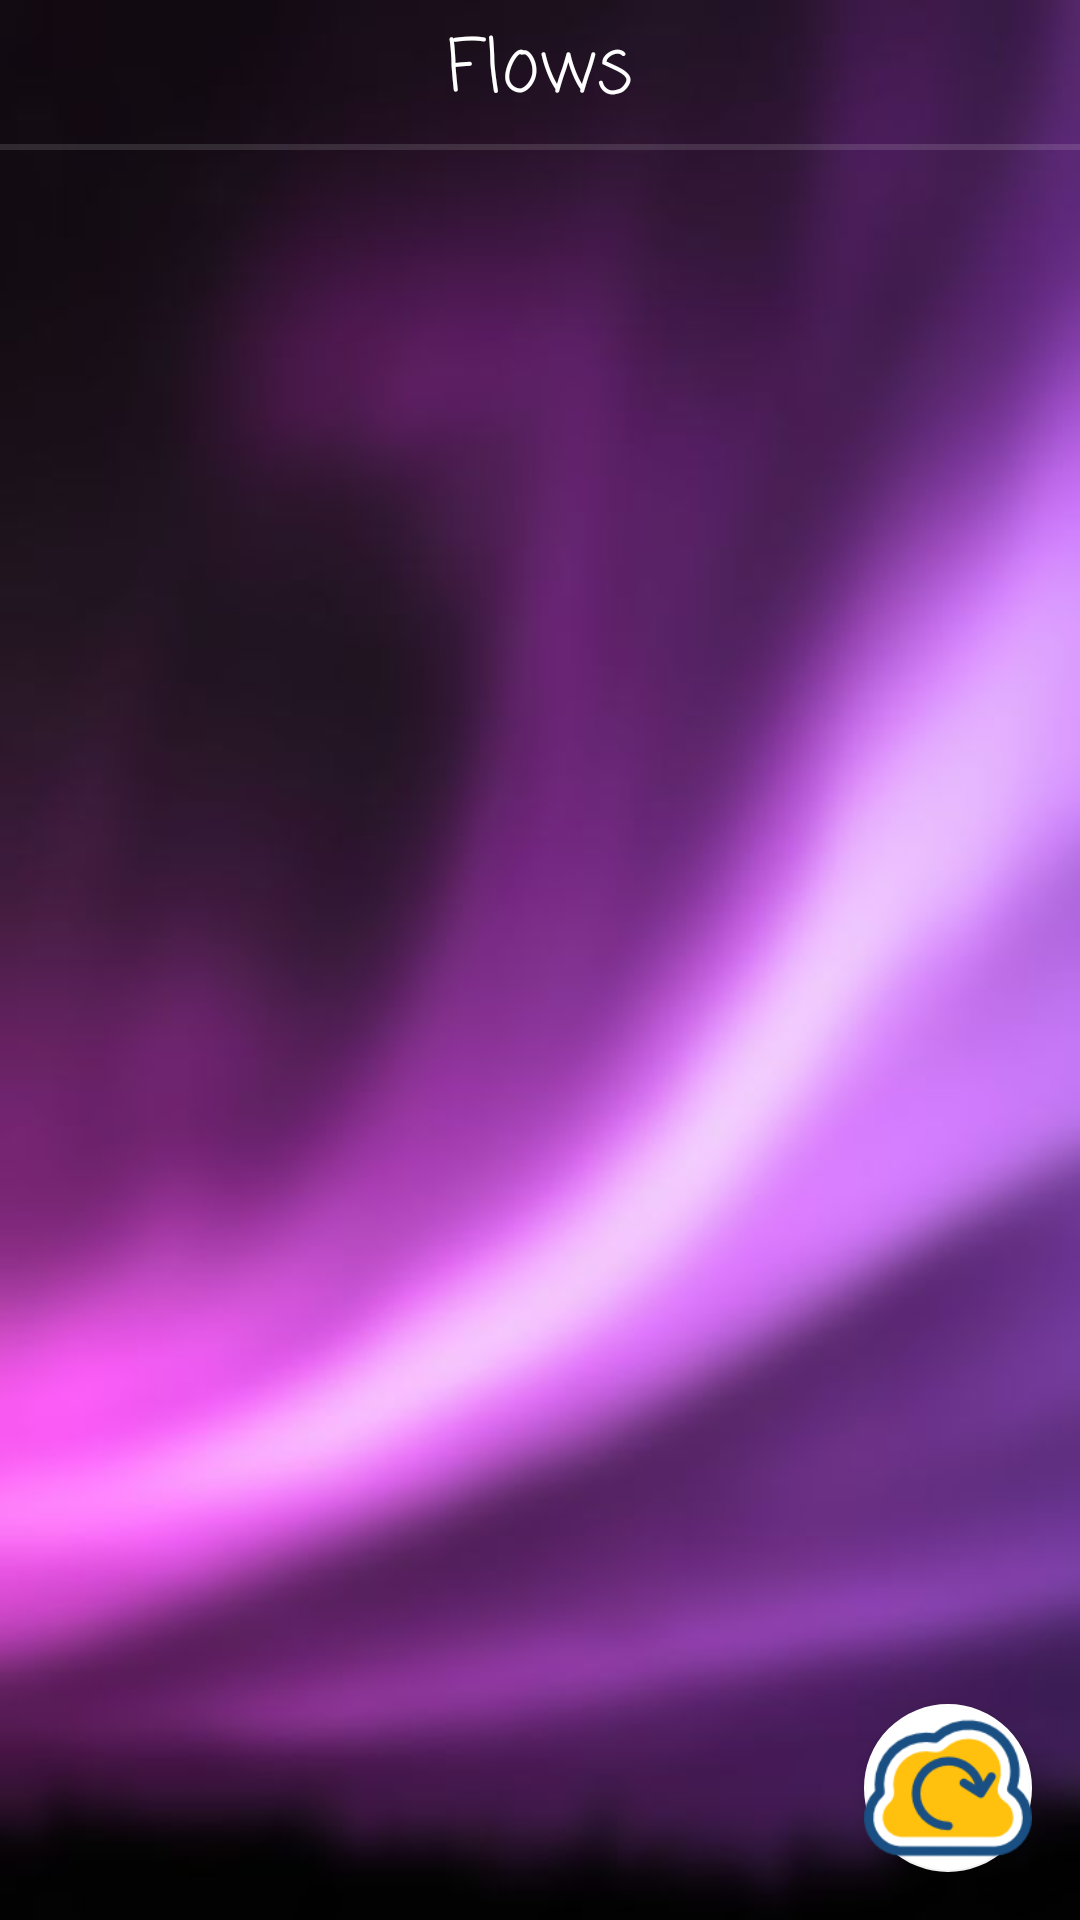

Screen size 1080w x 1920h. Icon name, then its center in pixels as point (x, y):
cloud sync: point (948, 1788)
